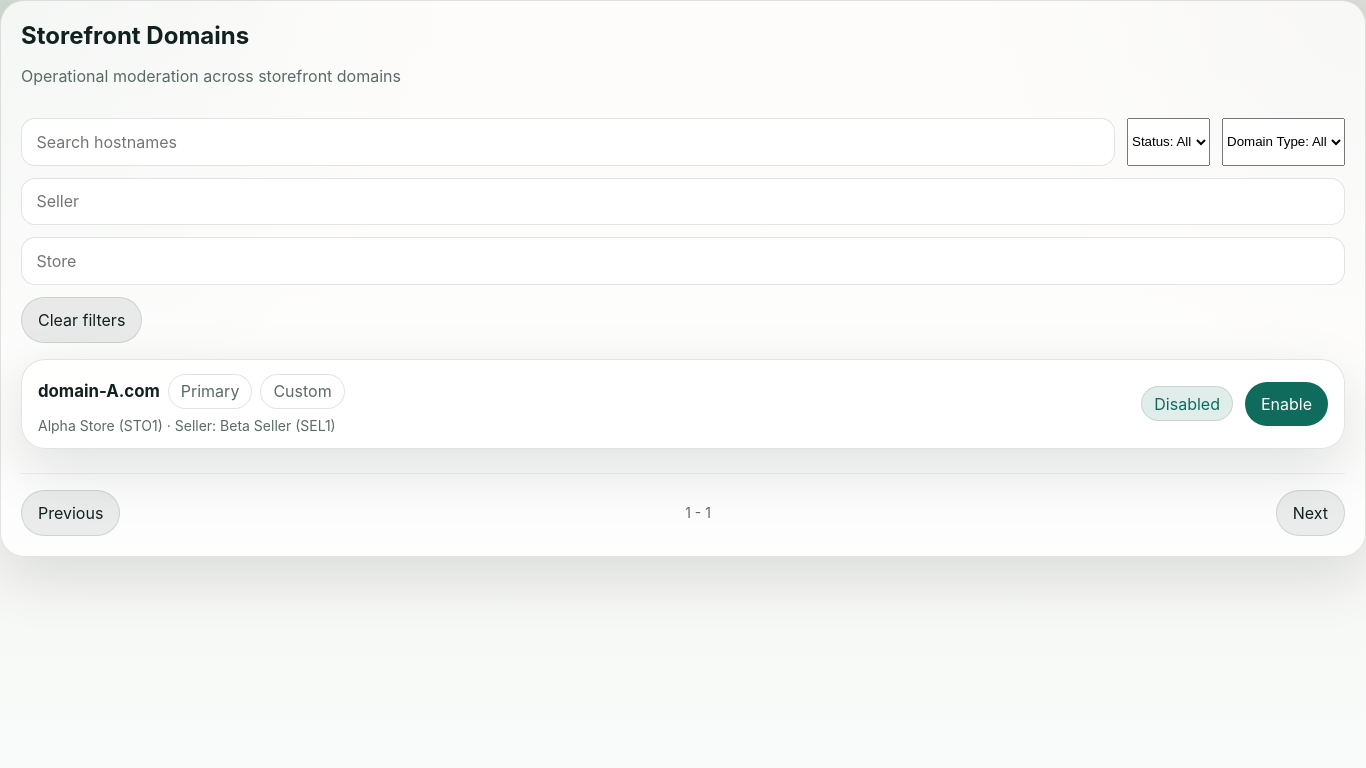
DomainModerationPanel › ignores 409 conflict notice and reload when view changed before action returned 409
Check: the text "domain-A.com" is shown, box [38,381,160,401]
Note: Start Enable on domain A
Click the button with test id "enable-btn-dom-A" at (1286, 404), box [1245,382,1328,426]
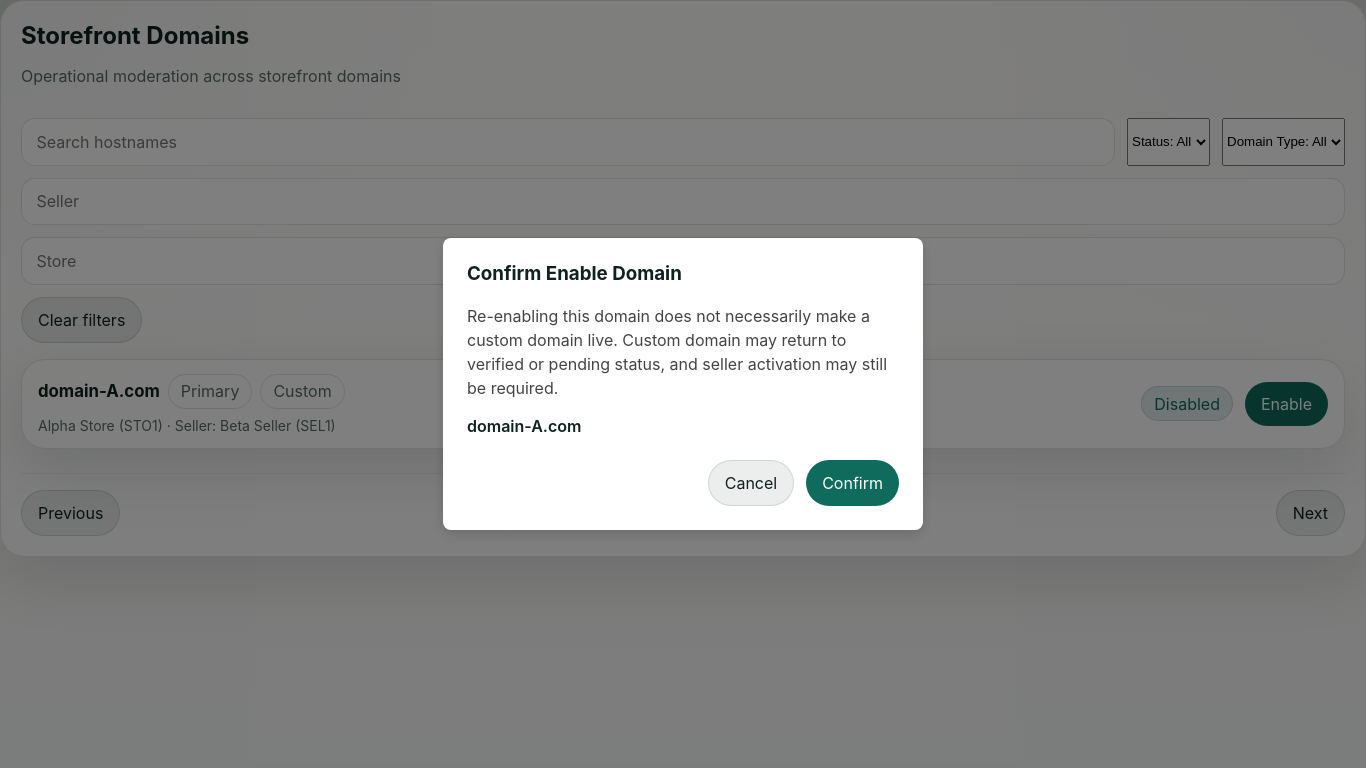
Click the button with test id "confirm-submit" at (853, 483), box [806,460,899,506]
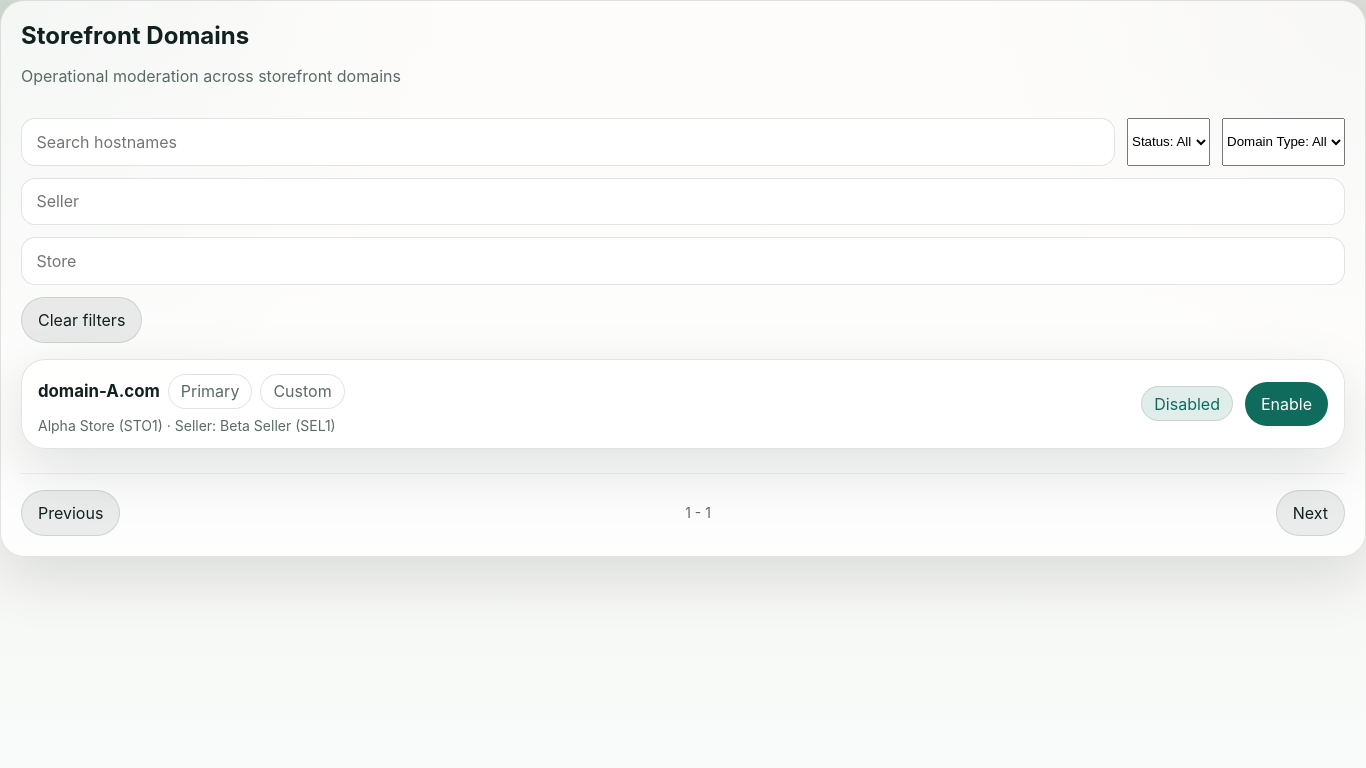
Select "Verified" in the dropdown named "Status" at (1168, 142), box [1127,118,1210,166]
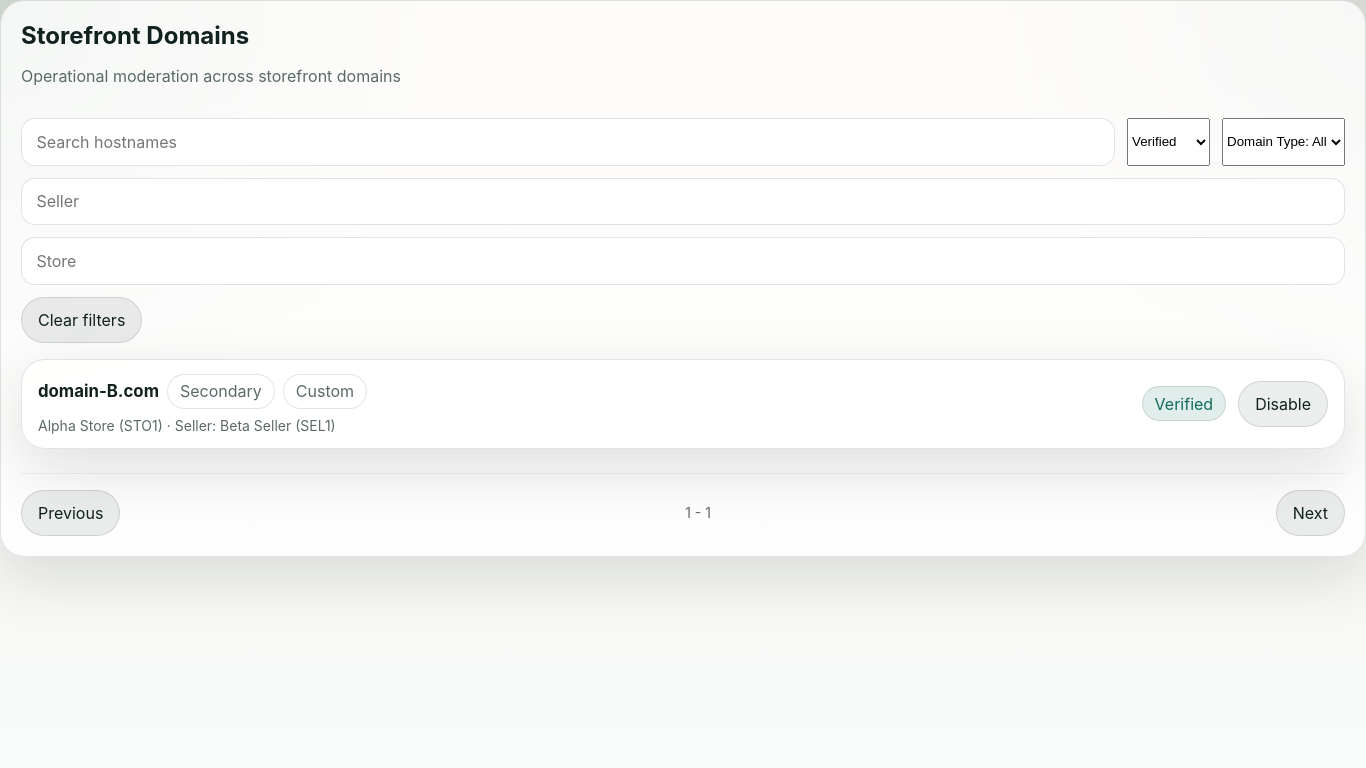
Check: the text "domain-B.com" is shown, box [38,381,159,401]
